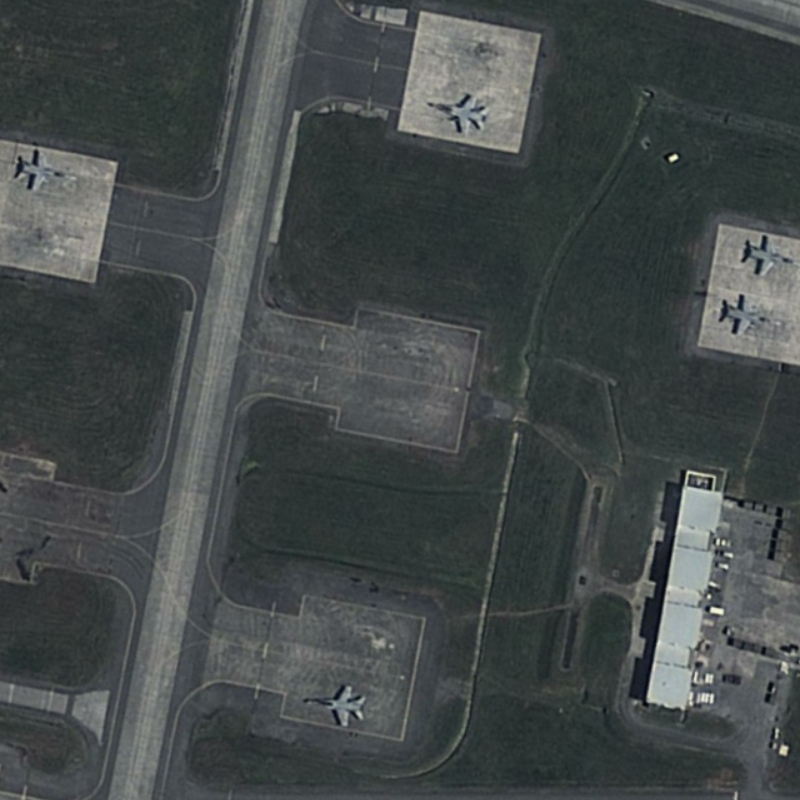A16: (299, 677, 370, 732), (10, 141, 80, 194), (423, 87, 493, 139), (714, 290, 784, 339), (737, 230, 800, 281)
